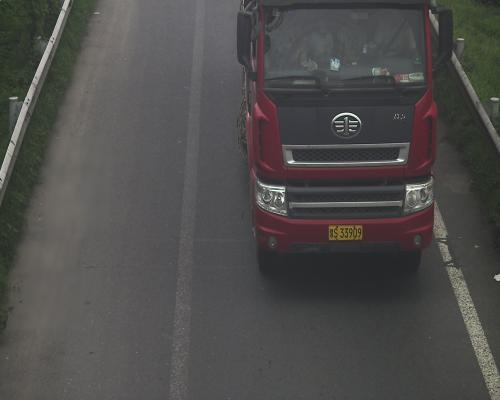Carplate: (325, 223, 367, 246)
